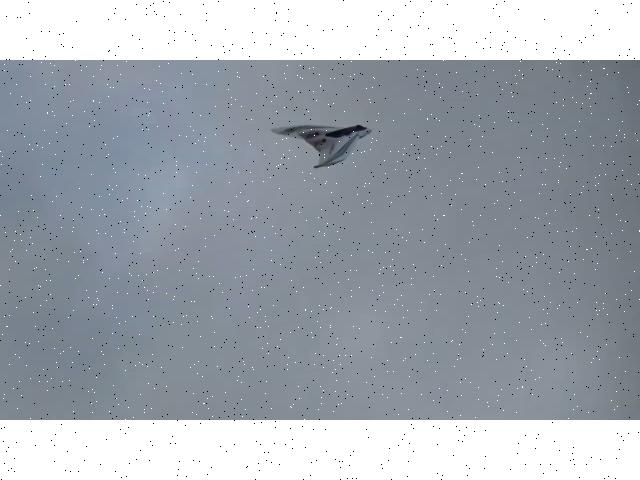Anti-Drone: (272, 124, 372, 169)
